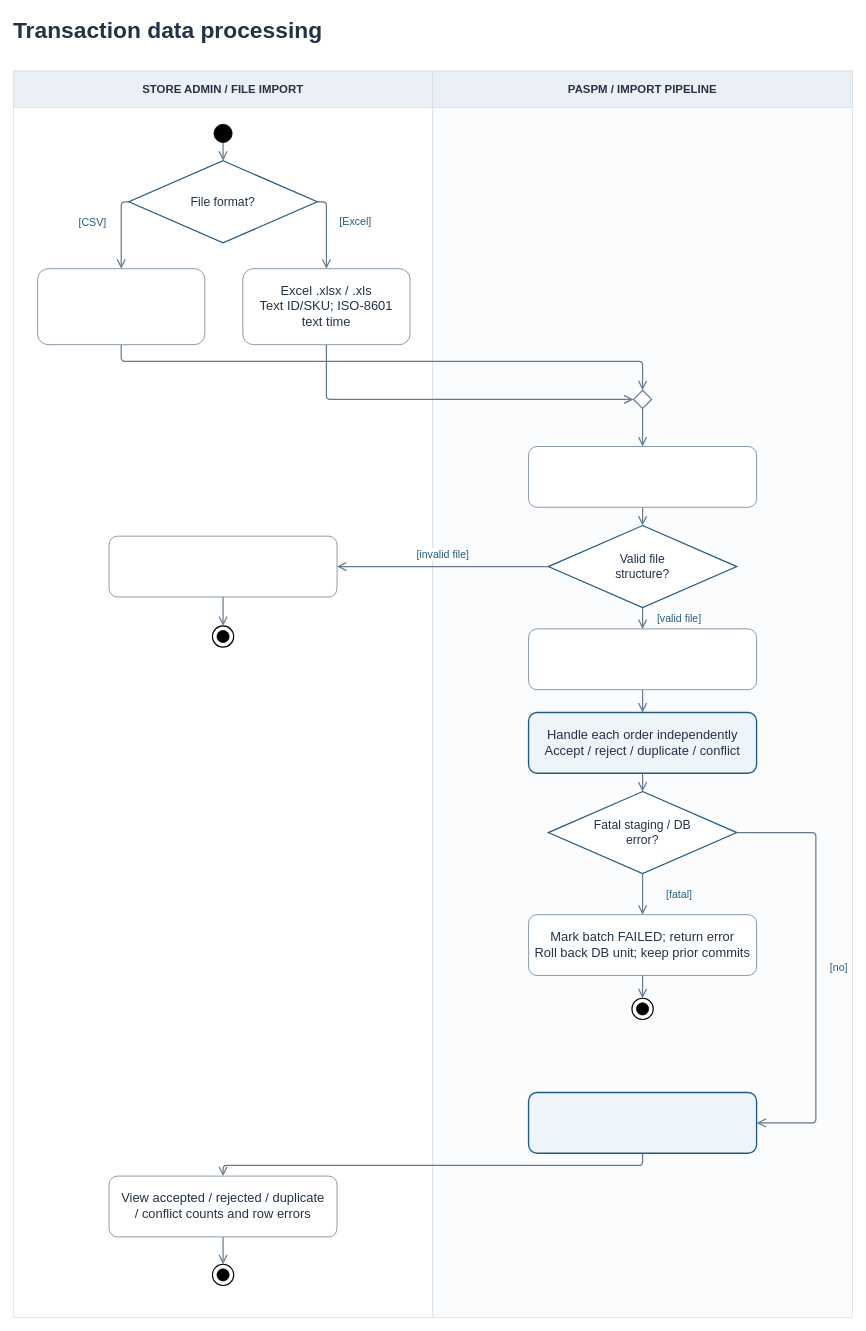
The diagram is 866 pixels wide and 1331 high, and some of its shapes have lost their labels. Each missing label, with the centre of its shape:
"Check workbook / CSV structure size, row cap, headers & types" goes at [642,476].
"Commit batch summary + row errors Keep valid history; never alter inventory" goes at [642,1122].
"Reject malformed file (400 / 413) Correct and re-upload" goes at [222,566].
"Stage original raw evidence Validate + group by order within Store" goes at [642,659].
"Upload CSV (UTF-8) Exact seven ordered columns" goes at [121,306].
